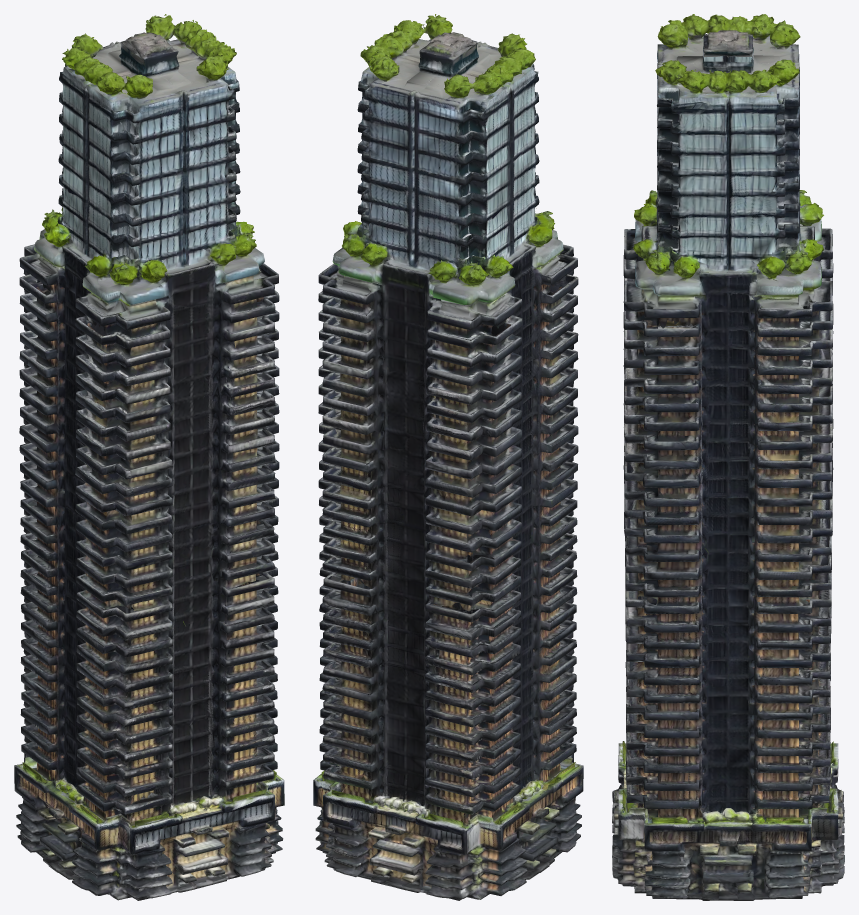
Rendered from skyscraper.glb.
The picture shows the model from 3 angles, left to right: view 1: azimuth 30°, elevation 25°; view 2: azimuth 150°, elevation 25°; view 3: azimuth 270°, elevation 25°; orthographic projection.
Bounding box in the file's own units: 0.4841 × 1.9 × 0.4894.
1 material, 1 textured.
